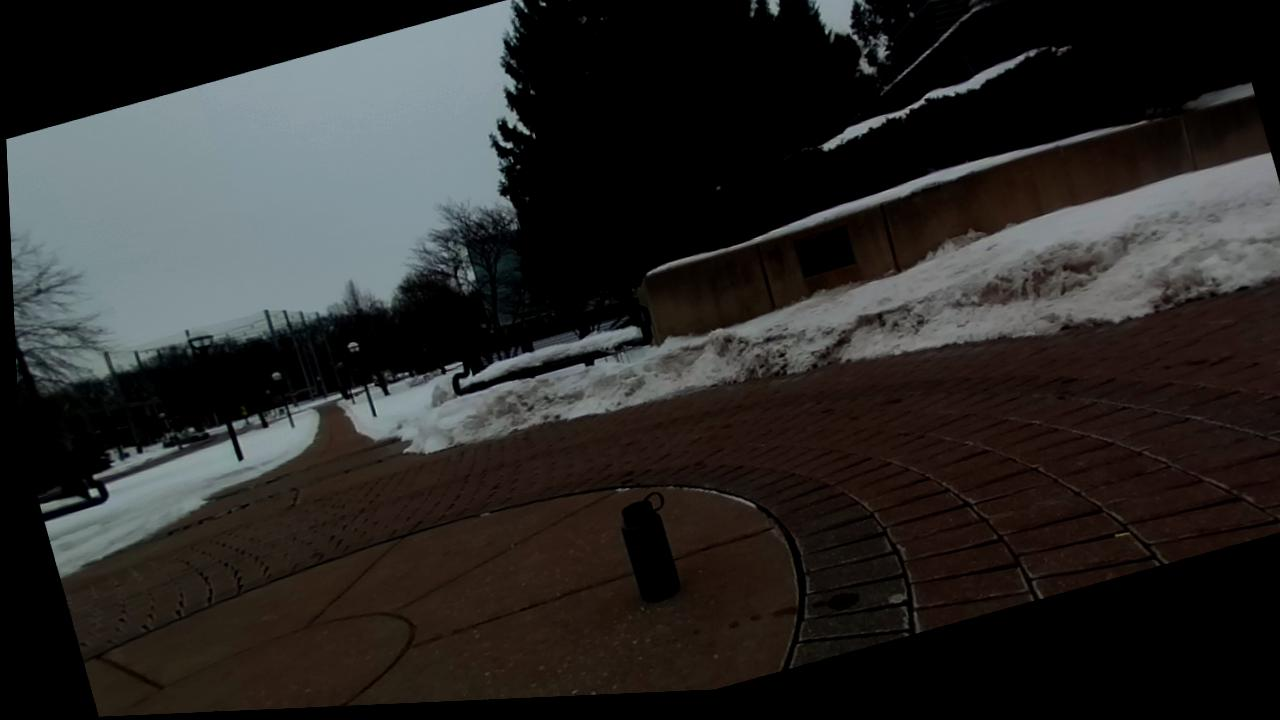bottle: (621, 493, 679, 600)
